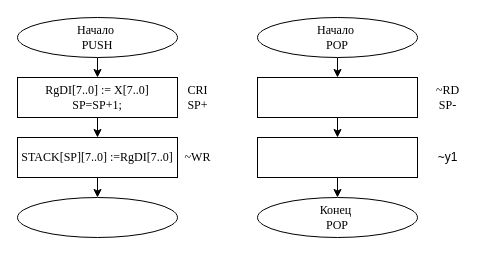
Some shapes in this 490 by 255 pixel diagram are drawn without their labels. The shapes that lost their labels are listed below. From the top down, each one's centre as x and y in pixels, then its label:
the point at 337,97: RgDO[7..0]:= STACK[SP][7..0] SP=SP-1;
the point at 337,157: z[7..0]=RgDO[7..0]
the point at 97,217: Конец PUSH
